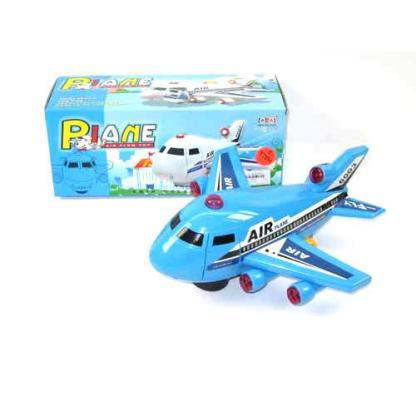CIV_Plane: (145, 144, 388, 318)
